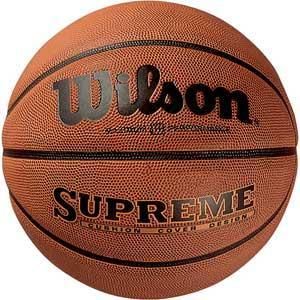basketball: (4, 1, 298, 300)
